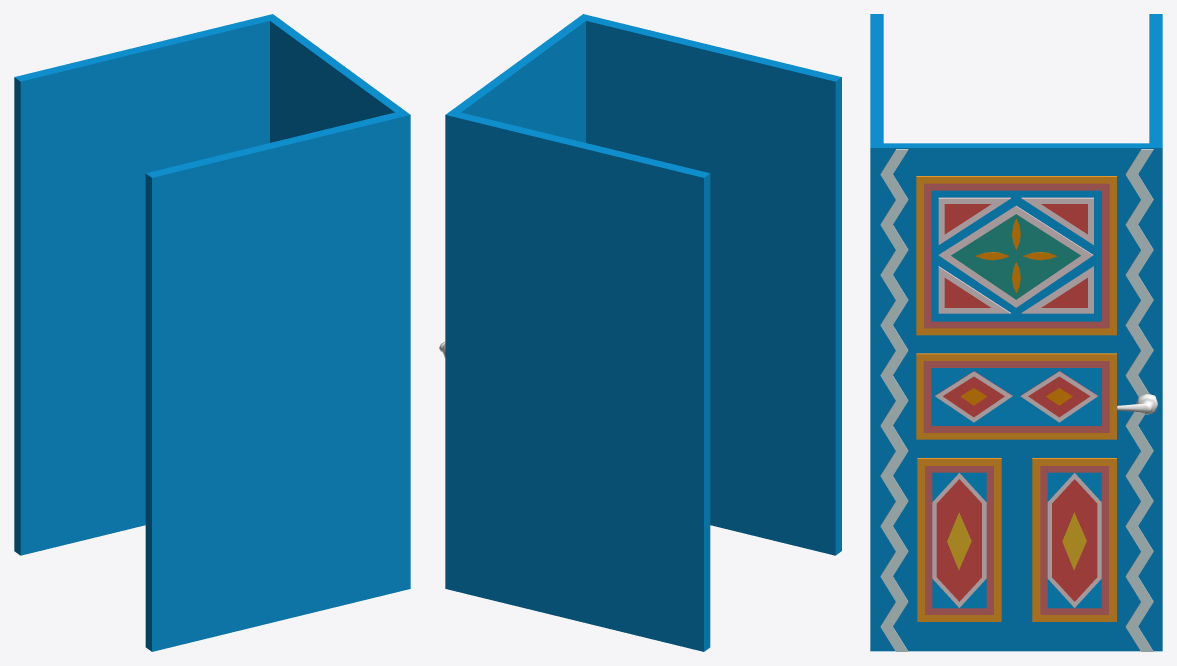
Rendered from MXC_Restroom_StallMale_Lv5.fbx.
The picture shows the model from 3 angles, left to right: view 1: azimuth 30°, elevation 25°; view 2: azimuth 150°, elevation 25°; view 3: azimuth 270°, elevation 25°; orthographic projection. The views are drawn at different scales.
Parts seen in each view (by area): view 1: MXC_Restroom_StallMale_Lv5; view 2: MXC_Restroom_StallMale_Lv5; view 3: MXC_Restroom_StallMale_Lv5.
Boxes of the visible parts, x1,y1,x2,y2 form: MXC_Restroom_StallMale_Lv5: (14,14,410,651); MXC_Restroom_StallMale_Lv5: (439,14,841,651); MXC_Restroom_StallMale_Lv5: (870,14,1162,651).
Bounding box in the file's own units: 227 × 380 × 200.
